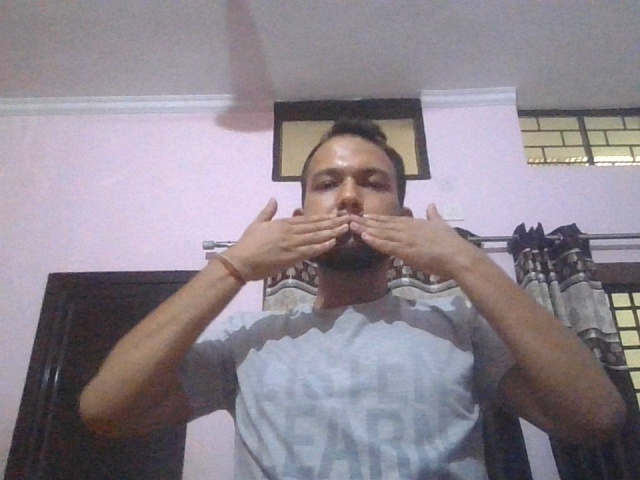thanks: (225, 198, 496, 283)
